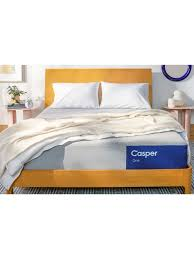bed-matress: (2, 103, 190, 171)
